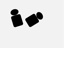human: (24, 10, 43, 27), (8, 7, 23, 27)
